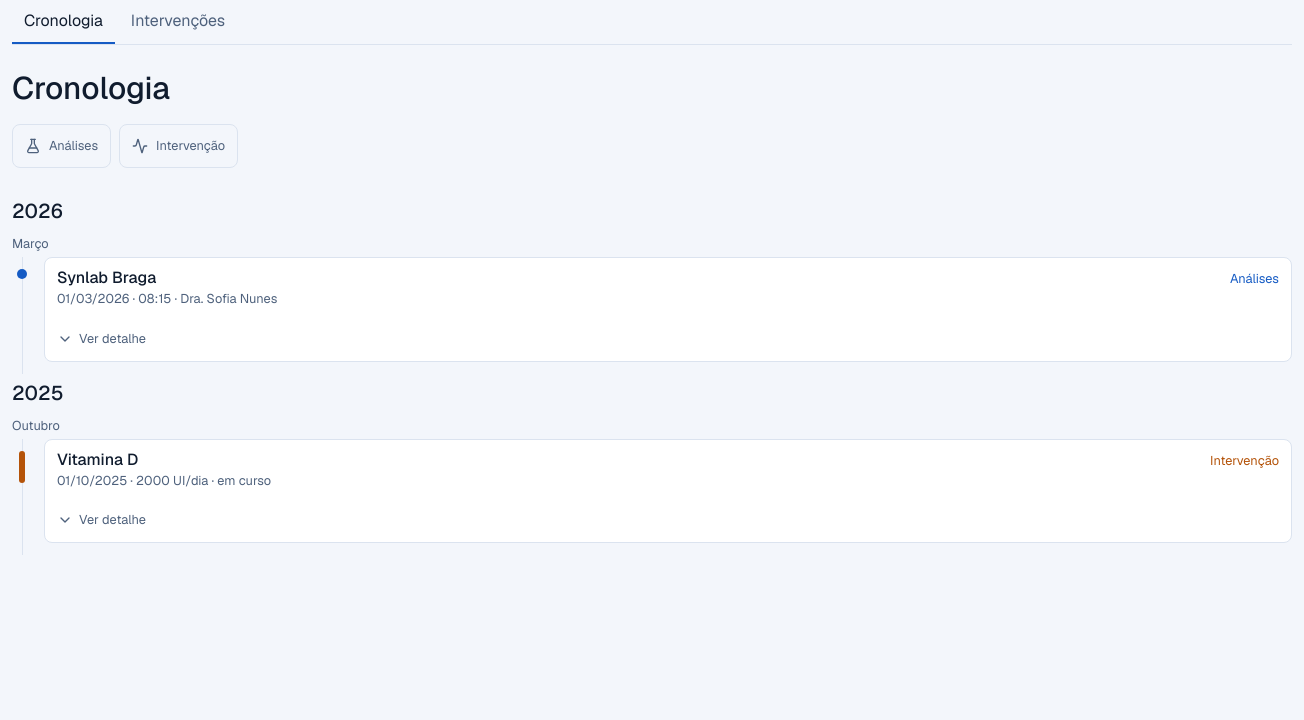
it: Timeline › expands a card in place rather than navigating away
Click the button "Ver detalhe" below "01/03/2026 · 08:15" at point(112, 338), box [45,317,1291,361]
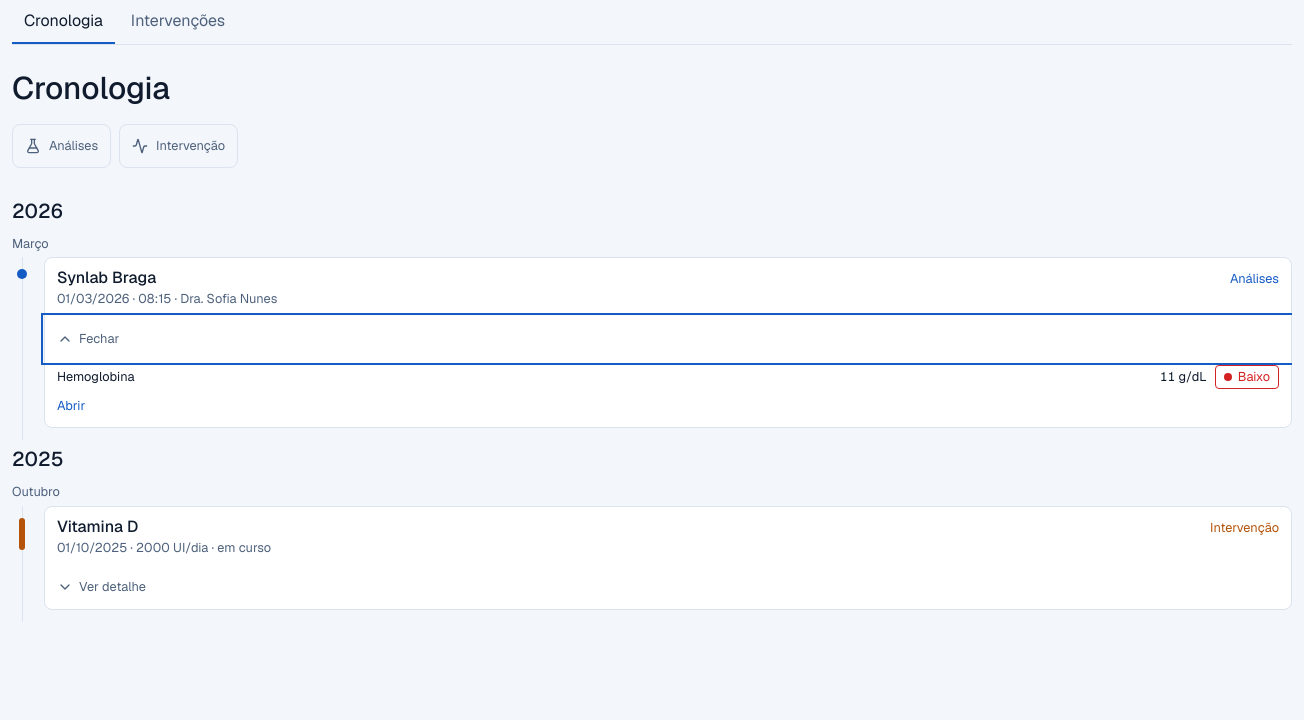
Check: the heading "2026" is shown, box [12,192,1292,231]
Check: the text "Hemoglobina" is shown, box [57,368,134,386]
Check: the text "11 g/dL" is shown, box [1160,368,1207,386]
